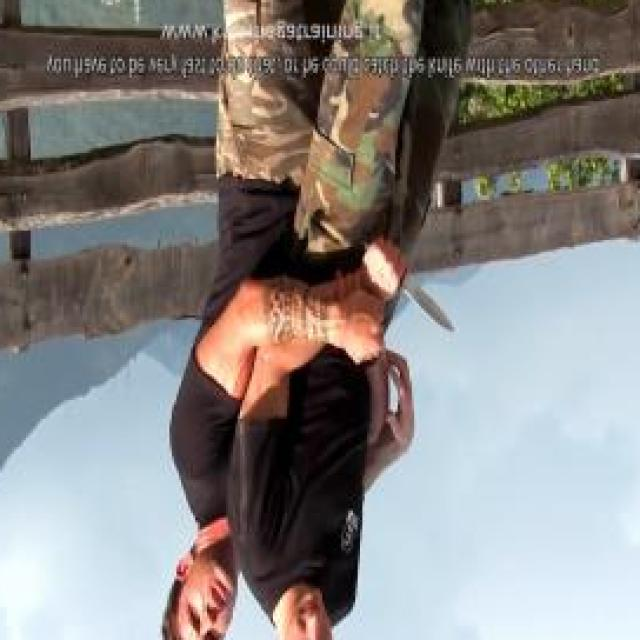knife: (360, 228, 456, 341)
